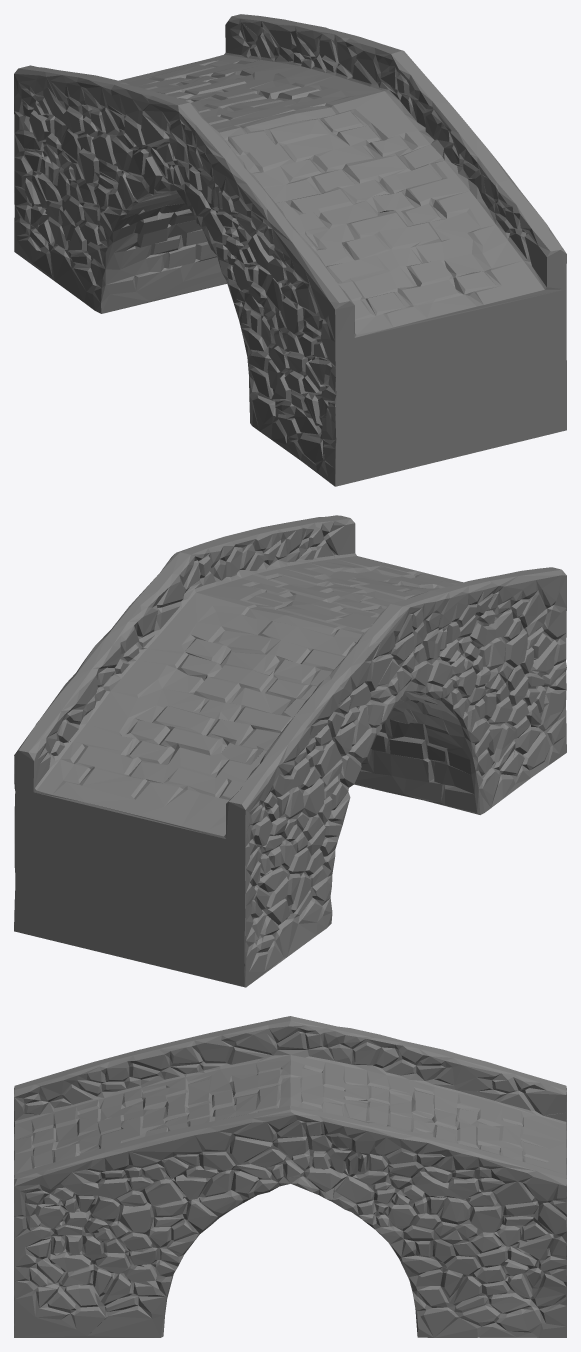
The model's file is bridge_b.FBX.
The picture shows the model from 3 angles, top to bottom: view 1: azimuth 30°, elevation 25°; view 2: azimuth 150°, elevation 25°; view 3: azimuth 270°, elevation 25°; orthographic projection. The views are drawn at different scales.
Parts seen in each view (by area): view 1: bridge_b; view 2: bridge_b; view 3: bridge_b.
Part boxes in pixels (x1,y1,x2,y2): bridge_b: [14, 14, 566, 486]; bridge_b: [14, 515, 566, 987]; bridge_b: [14, 1016, 566, 1337].
Size of the model in its own units: 5 by 5.42 by 12.
